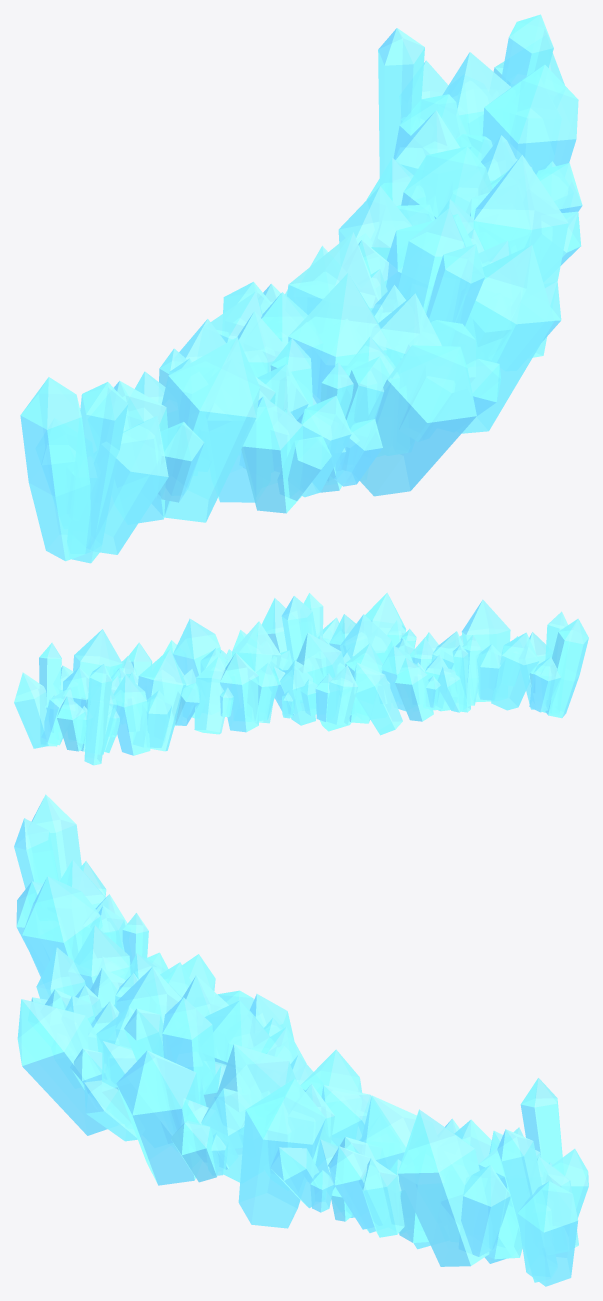
The model's file is Kristalle_2.fbx.
The picture shows the model from 3 angles, top to bottom: view 1: azimuth 30°, elevation 25°; view 2: azimuth 150°, elevation 25°; view 3: azimuth 270°, elevation 25°; orthographic projection. The views are drawn at different scales.
Visible parts, largest first — view 1: Kristalle1; view 2: Kristalle1; view 3: Kristalle1.
Boxes of the visible parts, box(x1,y1,x2,y2) form: Kristalle1: box(20, 14, 582, 563); Kristalle1: box(14, 592, 588, 765); Kristalle1: box(14, 794, 588, 1286).
Size of the model in its own units: 460 by 128 by 332.
